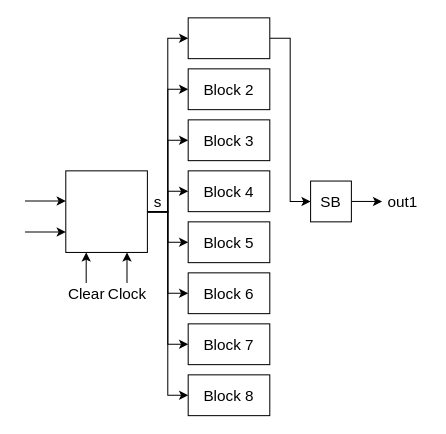
Some shapes in this 446 by 434 pixel diagram are drawn without their labels. The box of each missing label's shape, as (x1, y1, x2, y2) in pixels:
Block 1: (187, 17, 270, 59)
Logic Tile: (65, 170, 147, 252)
